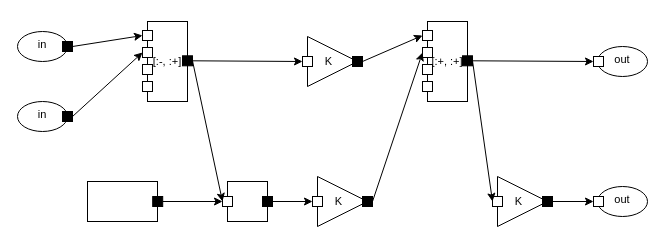
Some shapes in this 665 by 244 pixel diagram are drawn without their labels. The centre of each missing label's shape, as x and y in pixels:
1/s: [247,201]
value: [122,201]
